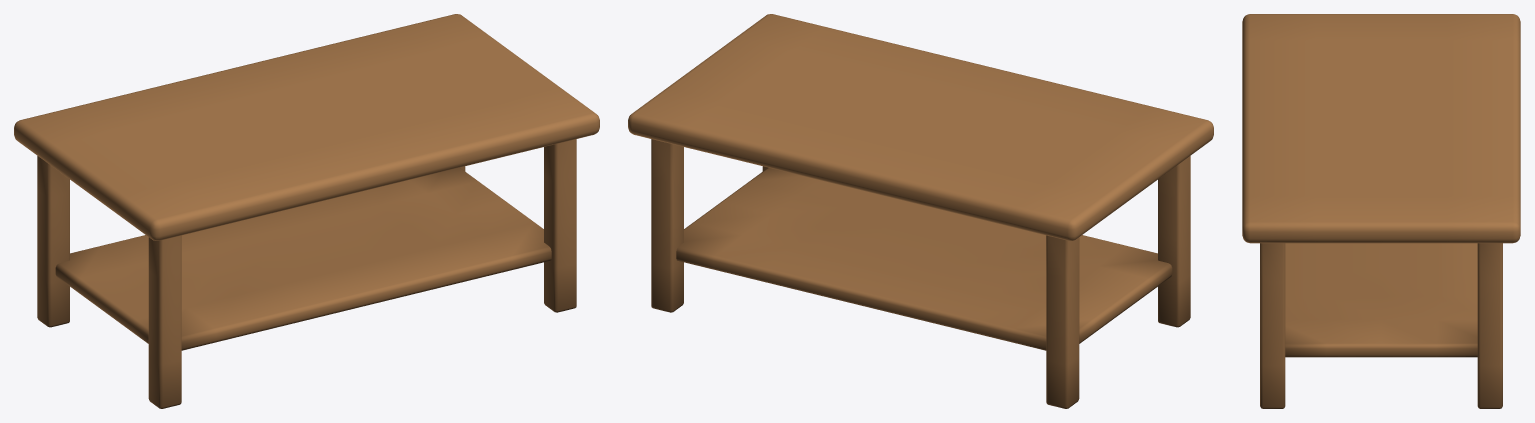
Rendered from tablebasse.glb.
The picture shows the model from 3 angles, left to right: view 1: azimuth 30°, elevation 25°; view 2: azimuth 150°, elevation 25°; view 3: azimuth 270°, elevation 25°; orthographic projection. The views are drawn at different scales.
Parts seen in each view (by area): view 1: corps; view 2: corps; view 3: corps.
Boxes of the visible parts, bbox=[...] form: corps: bbox=[14, 14, 599, 408]; corps: bbox=[628, 14, 1213, 408]; corps: bbox=[1242, 14, 1520, 408].
Bounding box in the file's own units: 1 × 0.42 × 0.55.
